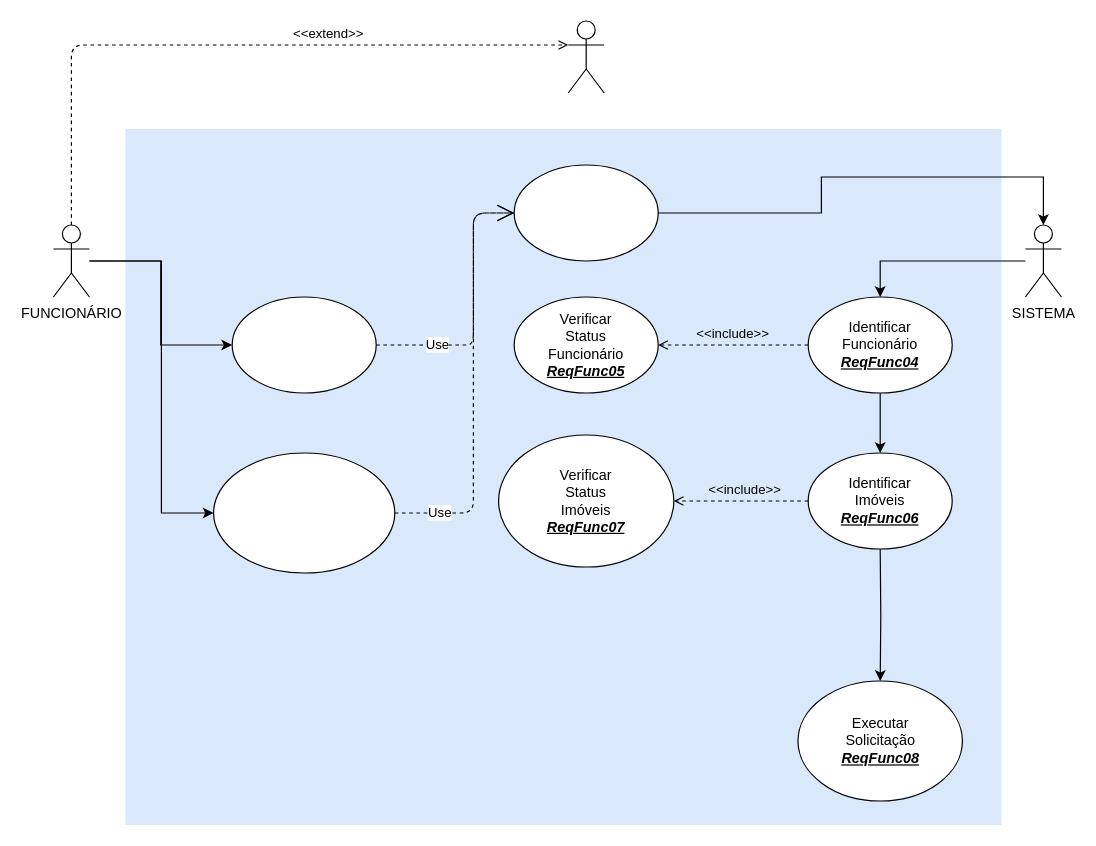
The diagram is 1096 pixels wide and 846 high, and some of its shapes have lost their labels. The box of each missing label's shape, as (x1, y1, x2, y2) in pixels:
Atualizar Cadastro Funcionário ReqFunc02: (212, 452, 395, 573)
Atualizar Imoveis ReqFunc01: (231, 296, 376, 393)
Users: (567, 20, 604, 93)
Verificar Solicitação ReqFunc03: (513, 164, 658, 261)
